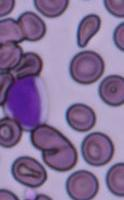L: (3, 74, 50, 131)
